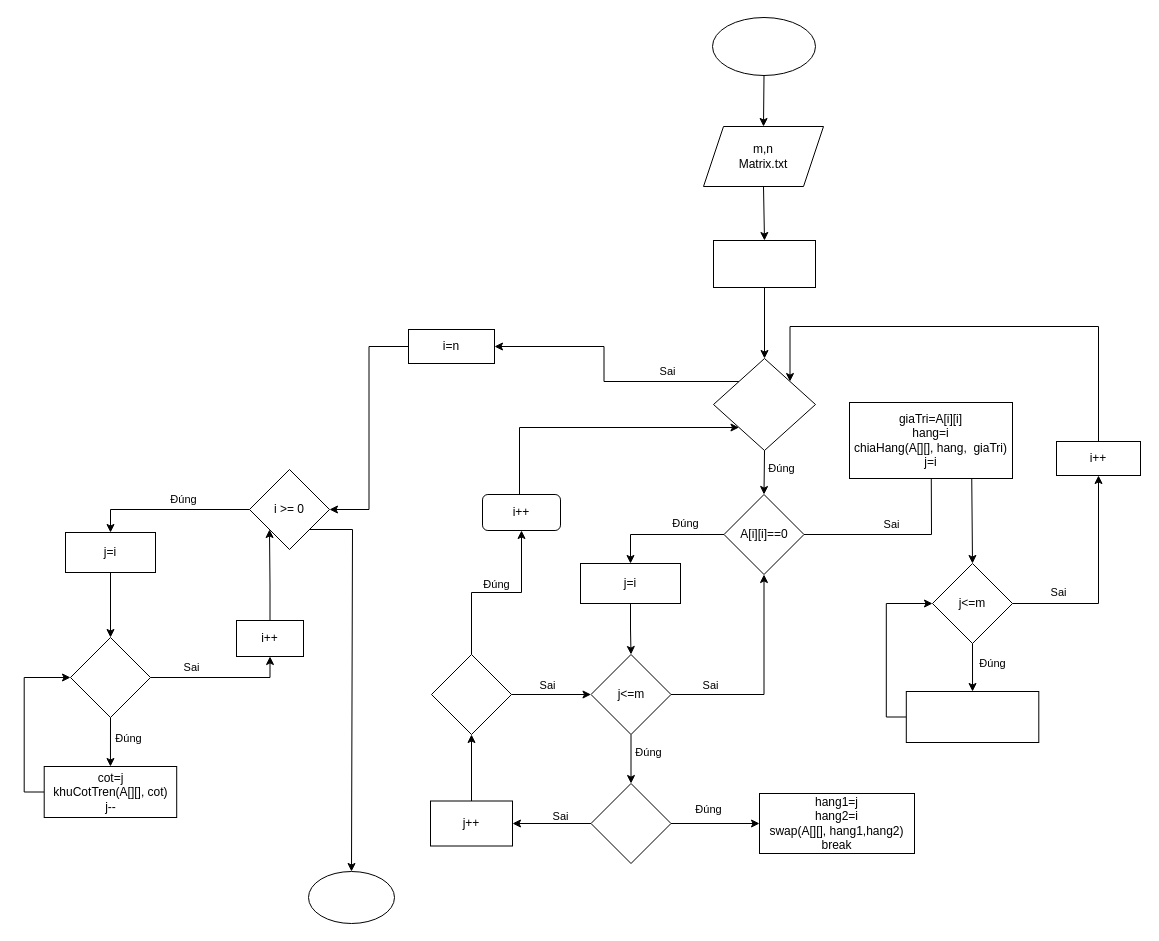
The diagram is 1159 pixels wide and 941 high, and some of its shapes have lost their labels. The shapes that lost their labels are listed below. From the top down, each one's box as (x1, y1, x2, y2) in pixels, then its label:
(712, 16, 816, 76): Begin
(712, 240, 816, 288): i=0
(712, 358, 816, 450): i<=n i<=m
(70, 636, 150, 718): j >= 0
(430, 654, 512, 734): j > m
(905, 690, 1039, 742): cot=j khuCotDuoi(A[][], cot) j++
(590, 782, 671, 864): A[i][j]!=0
(308, 870, 394, 924): End
